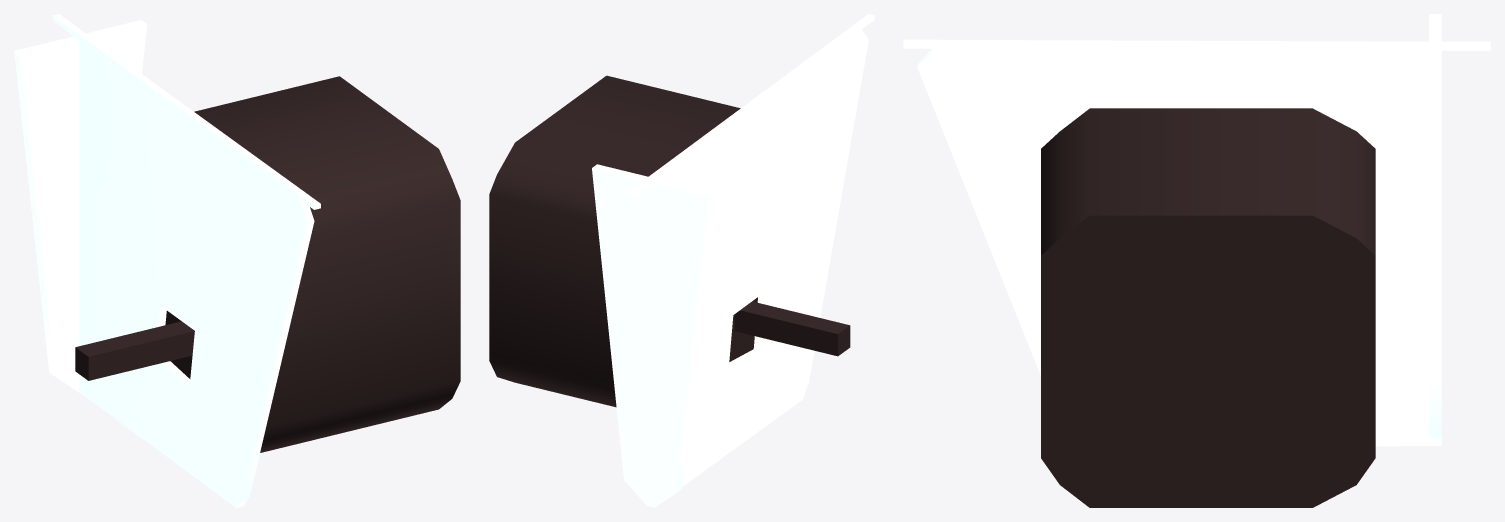
The model's file is motorRight.dae.
The picture shows the model from 3 angles, left to right: view 1: azimuth 30°, elevation 25°; view 2: azimuth 150°, elevation 25°; view 3: azimuth 270°, elevation 25°; orthographic projection. The views are drawn at different scales.
Parts seen in each view (by area): view 1: Cube.10, Cube.12; view 2: Cube.10, Cube.12; view 3: Cube.12, Cube.10.
Boxes of the visible parts, left/top/right/bottom form: Cube.10: left=14, top=14, right=320, bottom=507; Cube.12: left=75, top=76, right=460, bottom=452; Cube.10: left=592, top=14, right=874, bottom=507; Cube.12: left=489, top=75, right=850, bottom=407; Cube.12: left=1041, top=108, right=1375, bottom=507; Cube.10: left=903, top=14, right=1490, bottom=446.
Bounding box in the file's own units: 33.6 × 37.55 × 49.52.
